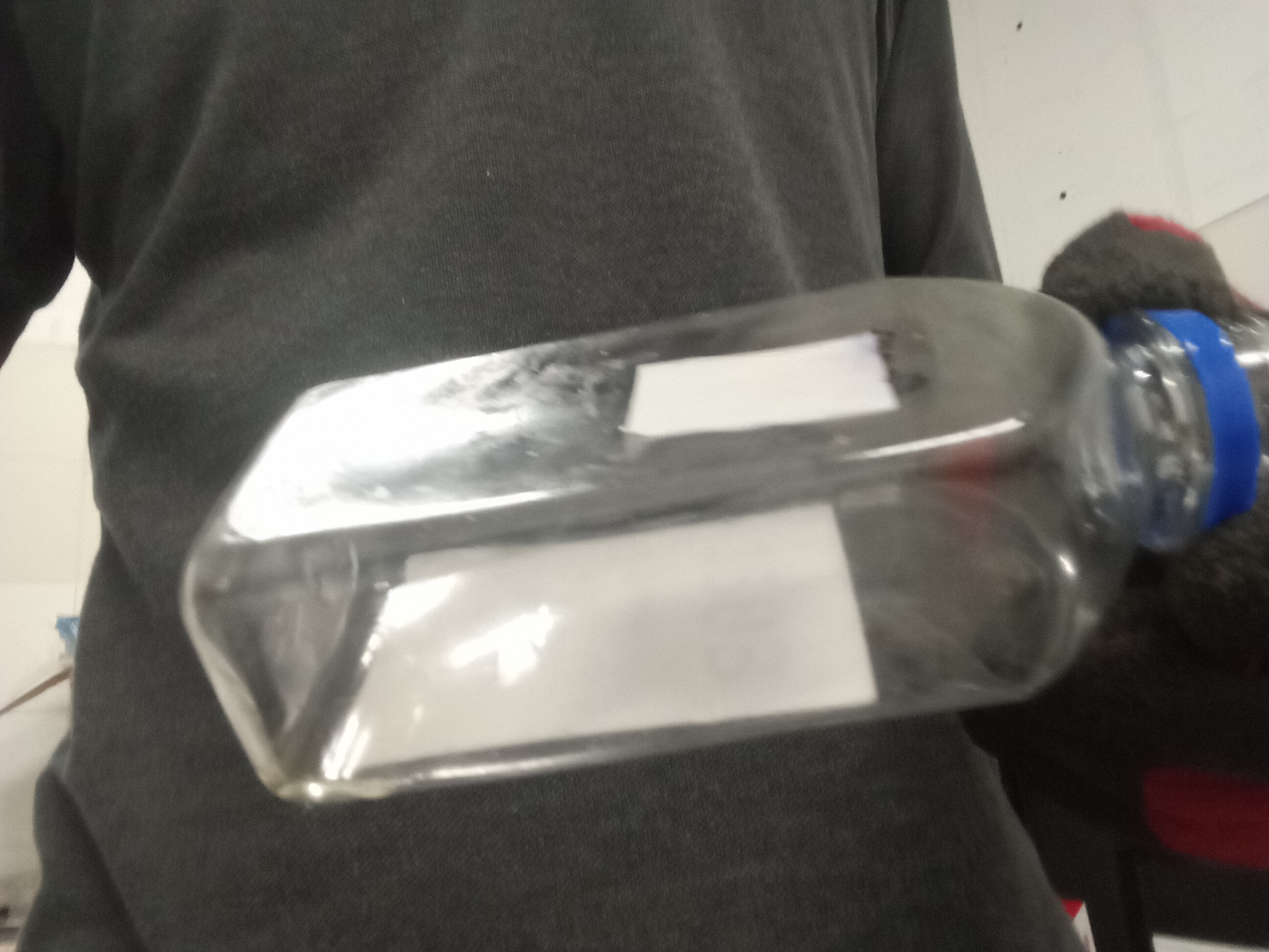Plastico: (181, 278, 1258, 809)
